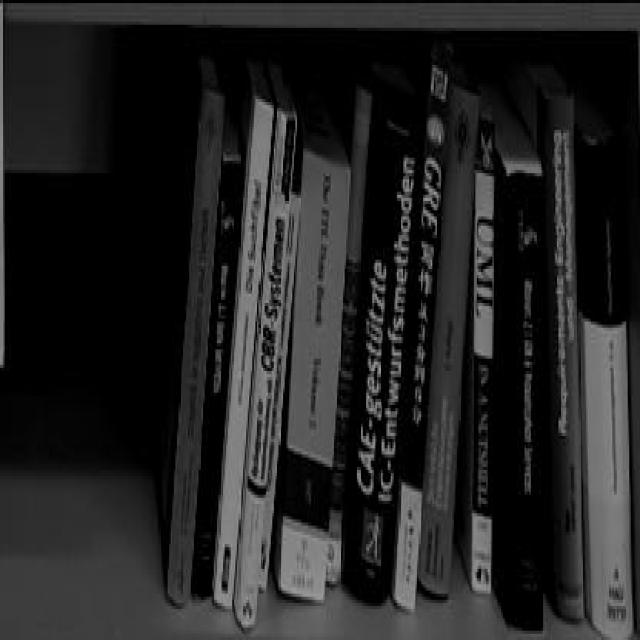book: (156, 47, 225, 612), (233, 83, 298, 640), (346, 122, 420, 596), (279, 137, 351, 602), (577, 116, 638, 636), (499, 143, 541, 633)
